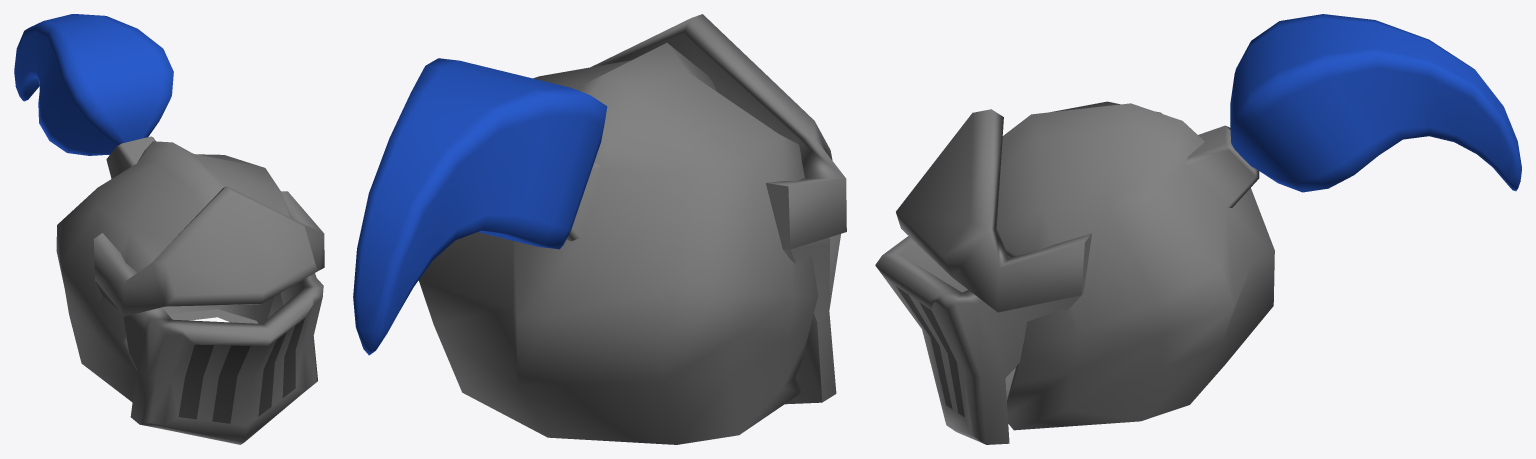
File: HelmetFighterR4.fbx
3 renders of one model, left to right at view 1: azimuth 30°, elevation 25°; view 2: azimuth 150°, elevation 25°; view 3: azimuth 270°, elevation 25°, orthographic. The views are drawn at different scales.
Visible parts, largest first — view 1: HelmetFighter_R3; view 2: HelmetFighter_R3; view 3: HelmetFighter_R3.
Part boxes in pixels (x1=…): HelmetFighter_R3: x1=14, y1=14, x2=324, y2=444; HelmetFighter_R3: x1=353, y1=14, x2=846, y2=444; HelmetFighter_R3: x1=875, y1=14, x2=1521, y2=444.
Bounding box in the file's own units: 67.01 × 96.3 × 143.
